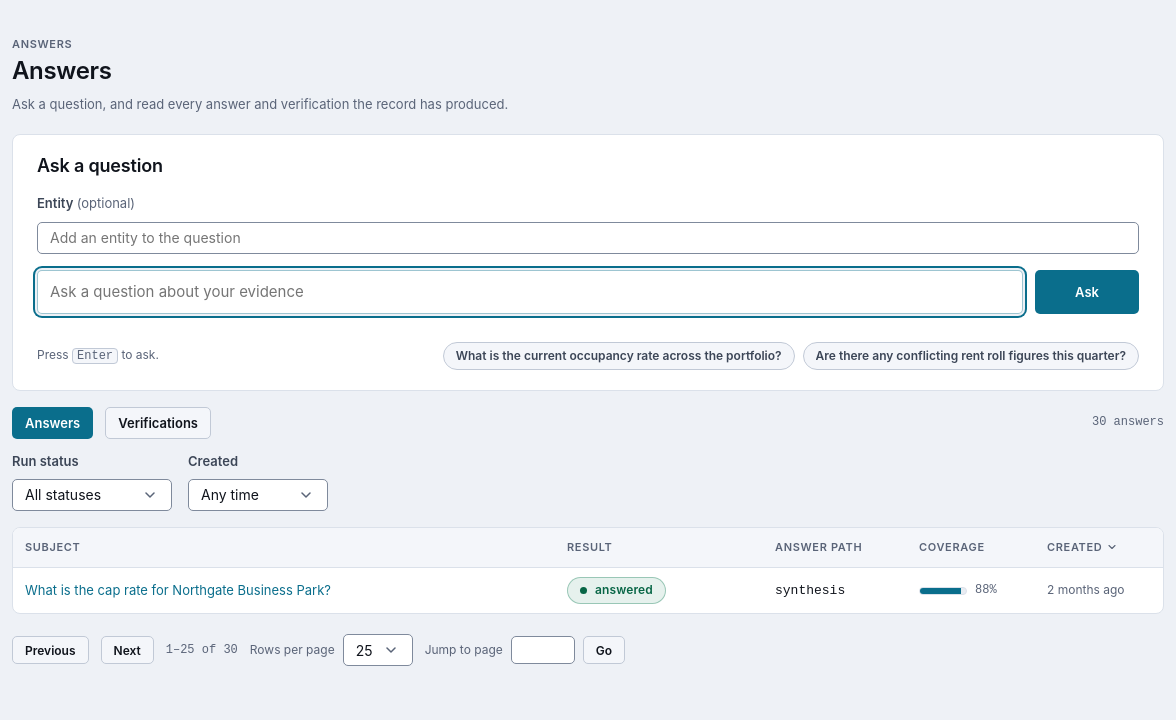
AnswersPage › switches to the verifications kind, resetting paging and sort, and renders the tally, badge and detail link
Expected: the text "What is the cap rate for Northgate Business Park?" is shown, x1=25 y1=582 x2=331 y2=598
Step 1. Click the button "Next" → (127, 650), box x1=100 y1=636 x2=154 y2=664
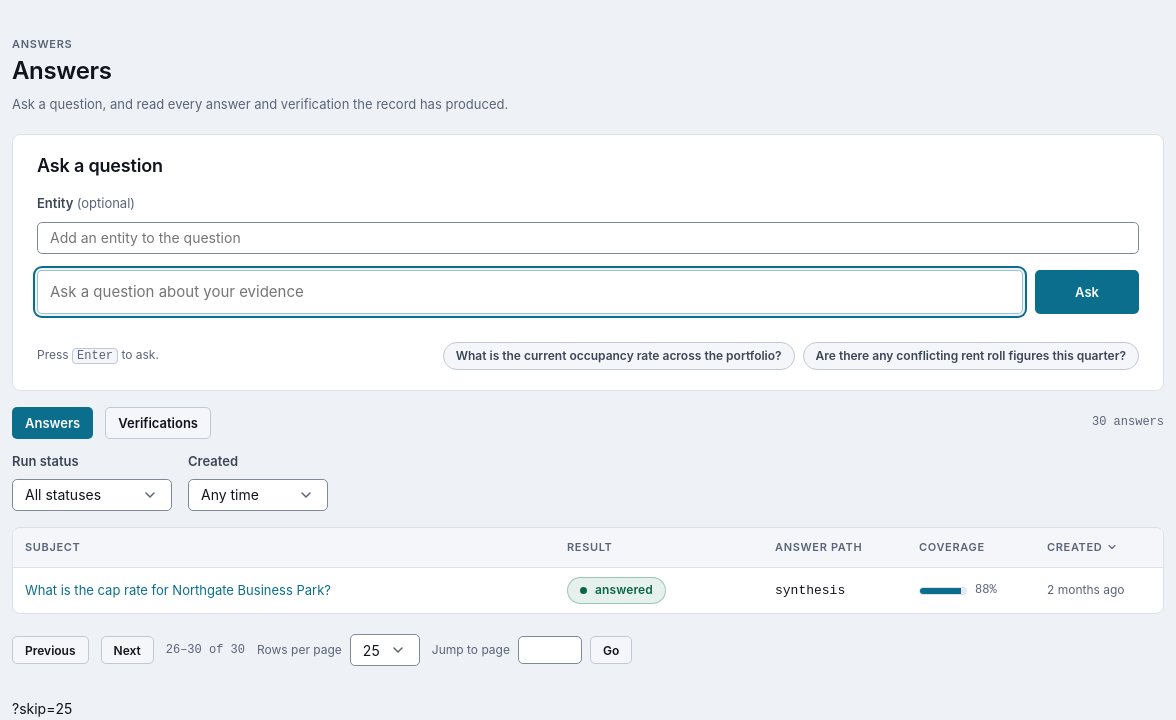
Expected: the text "26–30 of 30" is shown, x1=166 y1=641 x2=245 y2=659
Step 2. Click the button "Verifications" → (158, 422), box x1=105 y1=406 x2=211 y2=438
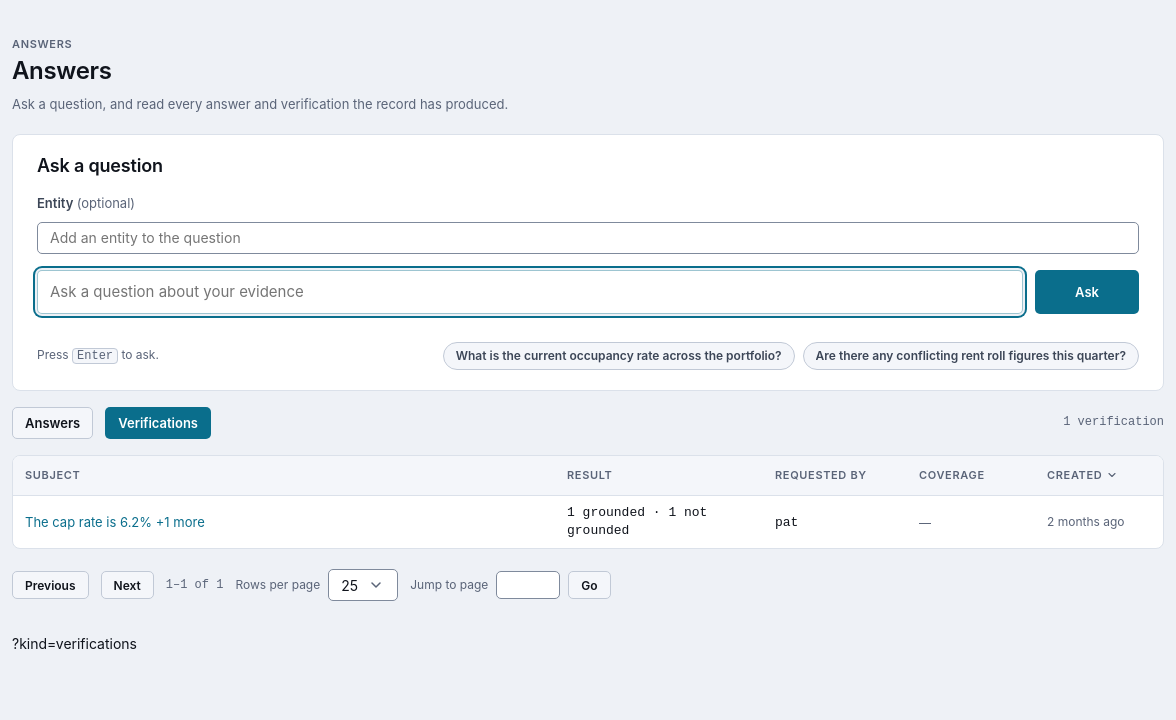
Expected: the text "1 grounded · 1 not grounded" is shown, x1=555 y1=496 x2=763 y2=548
Expected: the column heading "Requested by" is shown, x1=763 y1=456 x2=907 y2=495
Expected: the text named "current search" reads "?kind=verifications", x1=12 y1=635 x2=137 y2=652
